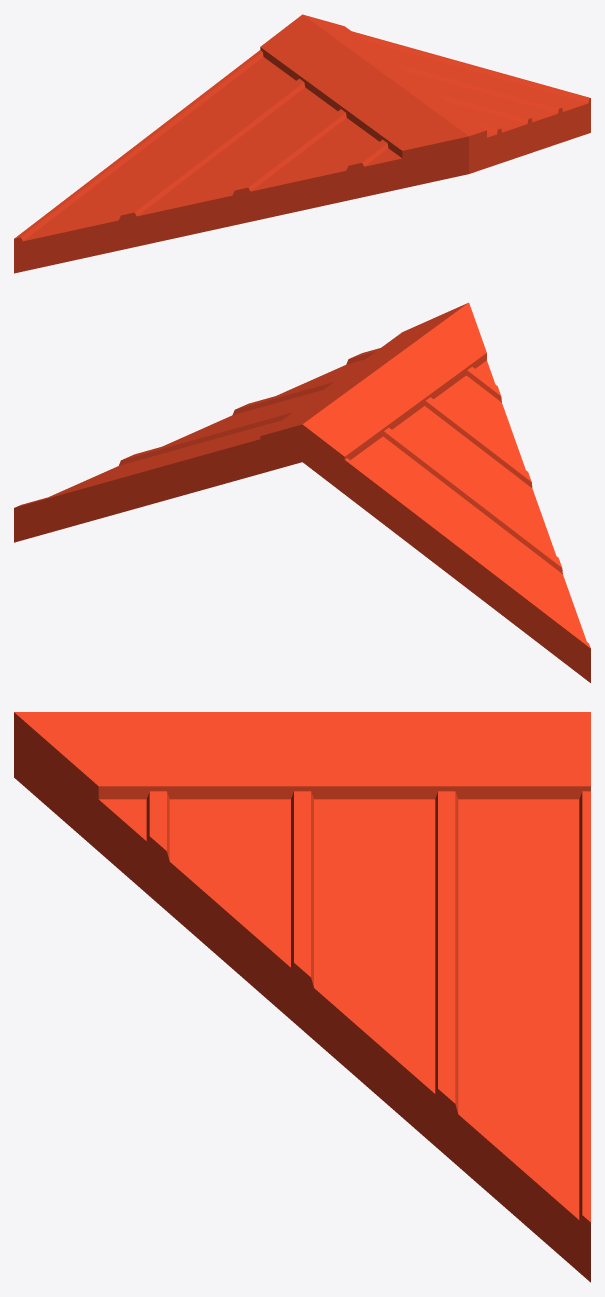
The model's file is roof-metal-moderate-2x2m-diagonal-center.fbx.
3 renders of one model, top to bottom at view 1: azimuth 30°, elevation 25°; view 2: azimuth 150°, elevation 25°; view 3: azimuth 270°, elevation 25°, orthographic. The views are drawn at different scales.
Parts seen in each view (by area): view 1: roof-metal-moderate-2x2m-diagonal-center; view 2: roof-metal-moderate-2x2m-diagonal-center; view 3: roof-metal-moderate-2x2m-diagonal-center.
Boxes of the visible parts, <box> form: roof-metal-moderate-2x2m-diagonal-center: <box>14,14,590,273</box>; roof-metal-moderate-2x2m-diagonal-center: <box>14,302,590,682</box>; roof-metal-moderate-2x2m-diagonal-center: <box>14,712,590,1282</box>.
Size of the model in its own units: 4 by 1.25 by 2.
